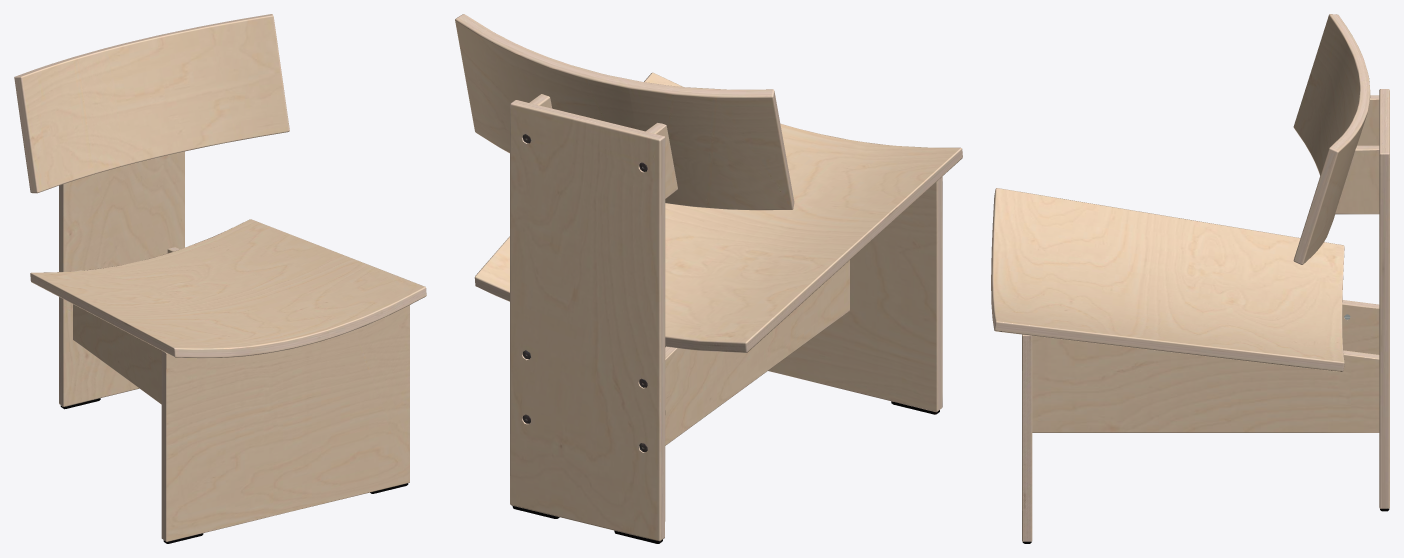
3 renders of one model, left to right at view 1: azimuth 30°, elevation 25°; view 2: azimuth 150°, elevation 25°; view 3: azimuth 270°, elevation 25°, orthographic. The views are drawn at different scales.
Parts seen in each view (by area): view 1: ASY_ART_00621071_S01_NV01; view 2: ASY_ART_00621071_S01_NV01; view 3: ASY_ART_00621071_S01_NV01.
Part boxes in pixels (bbox=[...]): ASY_ART_00621071_S01_NV01: bbox=[14, 14, 426, 543]; ASY_ART_00621071_S01_NV01: bbox=[455, 14, 962, 543]; ASY_ART_00621071_S01_NV01: bbox=[991, 14, 1389, 543].
Bounding box in the file's own units: 0.4967 × 0.6726 × 0.6092.
Materials: 1 (1 with a texture image).
